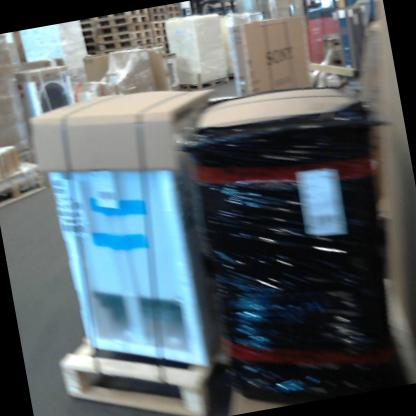pallet: (46, 304, 227, 416), (0, 161, 48, 218), (177, 72, 231, 93), (99, 33, 152, 52), (97, 19, 151, 37), (99, 28, 152, 46), (97, 12, 148, 29), (148, 11, 168, 22), (147, 19, 168, 29), (150, 35, 170, 45), (149, 27, 168, 36), (225, 70, 235, 82)
